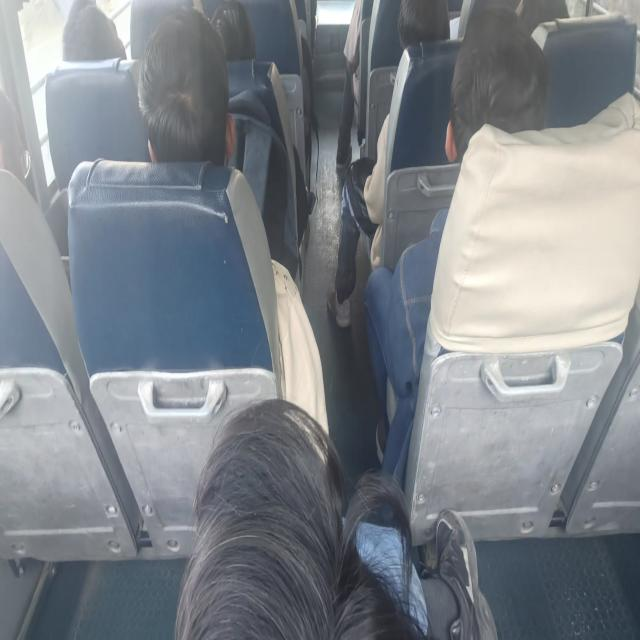person: (363, 4, 549, 483), (137, 6, 329, 437), (173, 397, 497, 638), (327, 0, 451, 328), (137, 7, 236, 166), (335, 0, 364, 196), (61, 0, 126, 62), (210, 0, 256, 61), (397, 0, 450, 50)
